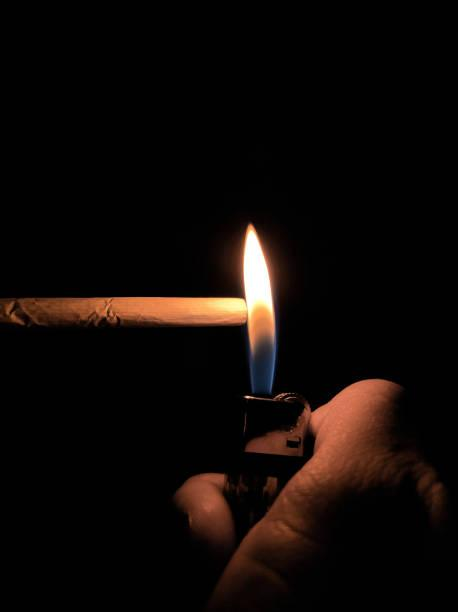Fire: (242, 225, 284, 393)
